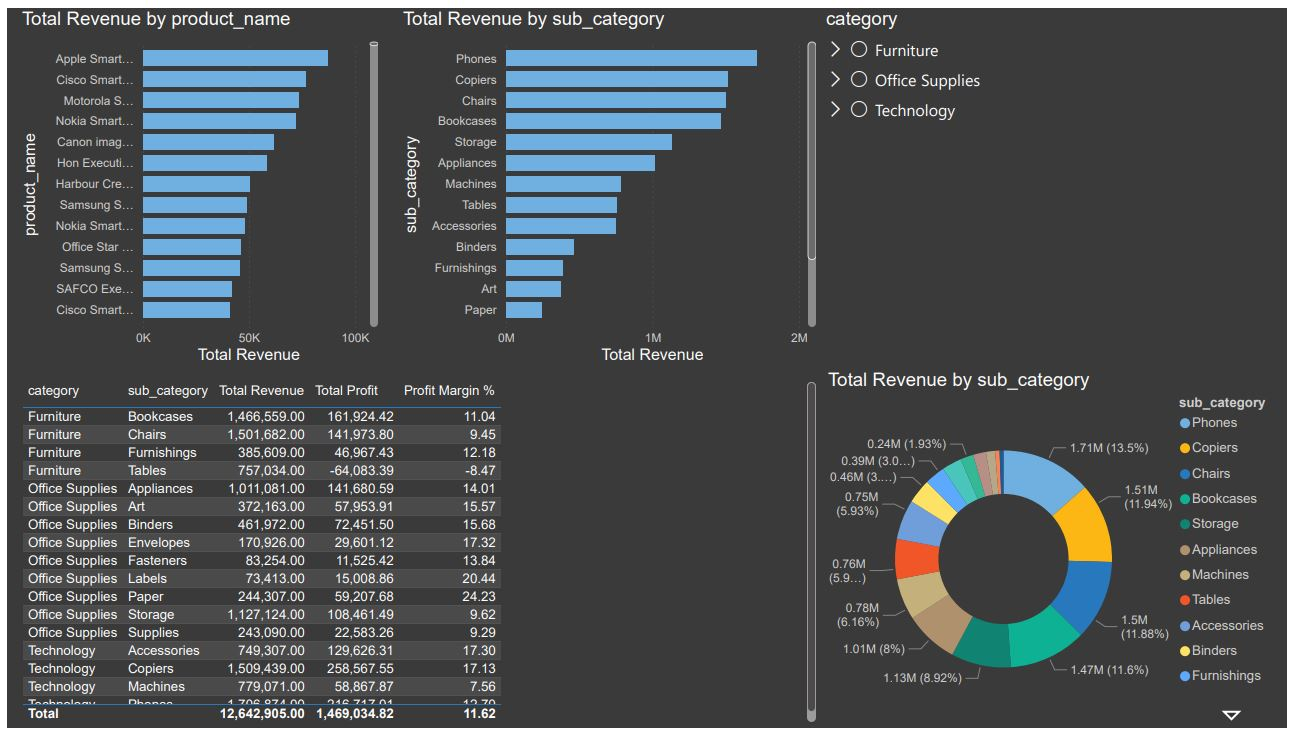

Layout of this report page (visuals, bound fields, positions):
{"tool":"powerbi","page":{"name":"Product Analytics","canvas":[1280,720],"ordinal":2},"visuals":[{"type":"barChart","fields":{"Category":["marts dim_products.product_name"],"Y":["marts fact_sales.Total Revenue"]},"box":[9.7,0,366.7,359.9],"z":0},{"type":"donutChart","fields":{"Category":["marts dim_products.sub_category"],"Y":["marts fact_sales.Total Revenue"]},"box":[816,360.6,464,359.6],"z":1000},{"type":"barChart","fields":{"Category":["marts dim_products.sub_category"],"Y":["marts fact_sales.Total Revenue"]},"box":[391,0,423.1,359.9],"z":2000},{"type":"tableEx","fields":{"Values":["marts dim_products.category","marts dim_products.sub_category","marts fact_sales.Total Revenue","marts fact_sales.Total Profit","marts fact_sales.Profit Margin %"]},"box":[9.7,369.3,804.4,350],"z":3000},{"type":"listSlicer","fields":{"Values":["marts dim_products.category","marts dim_products.sub_category"]},"box":[814,0,466,336.4],"z":3001}]}

Visuals, with their boxes in screenshot pixels (x1, y1, x2, y2), scaled from the page's 1280x720 canvas onto the 1295x737 screenshot:
barChart - marts dim_products.product_name x marts fact_sales.Total Revenue: 10:0:381:368
donutChart - marts dim_products.sub_category x marts fact_sales.Total Revenue: 826:369:1294:736
barChart - marts dim_products.sub_category x marts fact_sales.Total Revenue: 396:0:824:368
tableEx - marts dim_products.category x marts dim_products.sub_category: 10:378:824:736
listSlicer - marts dim_products.category x marts dim_products.sub_category: 824:0:1294:344
